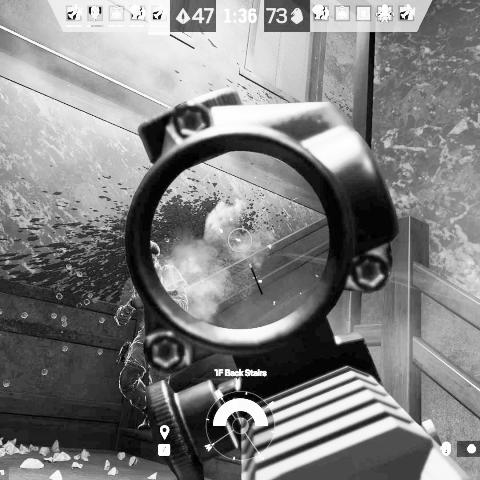Character: (114, 236, 190, 432)
Head: (147, 240, 161, 270)
